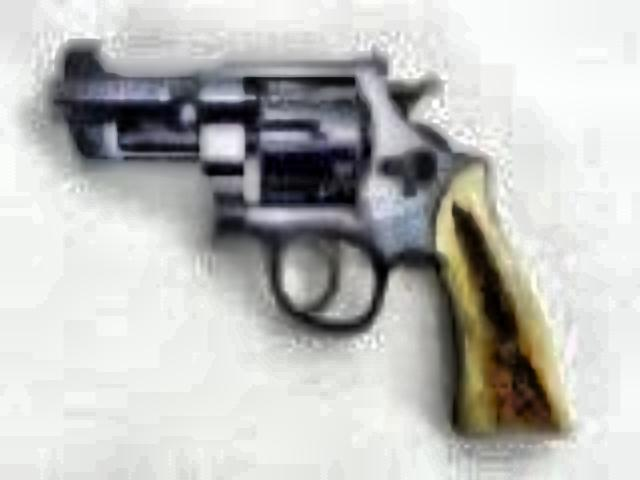pistol: (56, 32, 560, 432)
